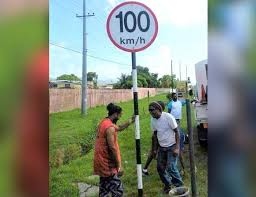Speed_limit_100km: (106, 1, 159, 52)
